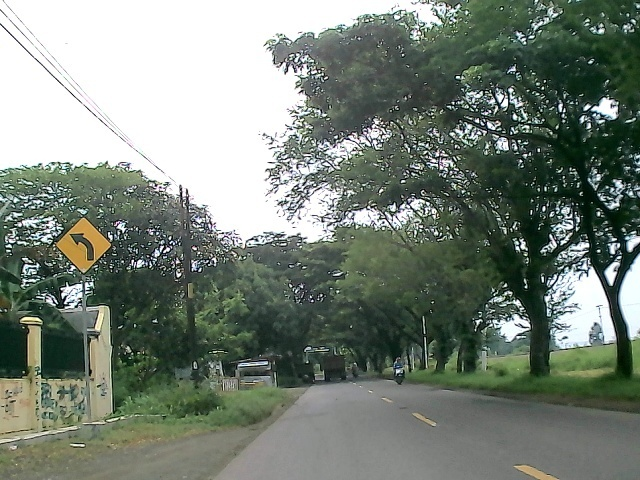Tikungan ke kiri: (54, 216, 113, 275)
